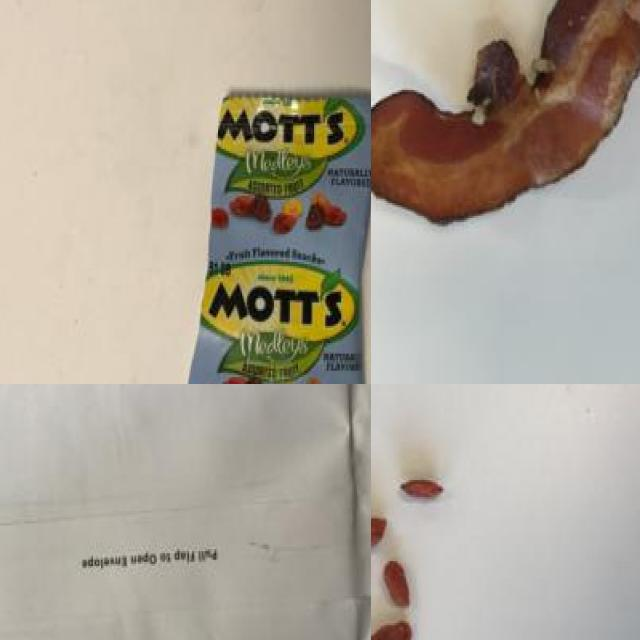compost: (371, 0, 640, 242), (371, 421, 487, 640)
paper: (0, 384, 371, 640)
trash: (177, 52, 371, 384)
